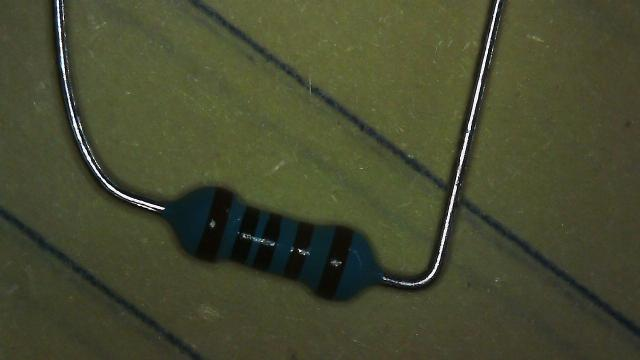black: (230, 206, 260, 262), (257, 217, 282, 268)
brown: (195, 188, 232, 261), (317, 226, 353, 298), (285, 222, 314, 278)
resistor: (149, 159, 391, 323)
